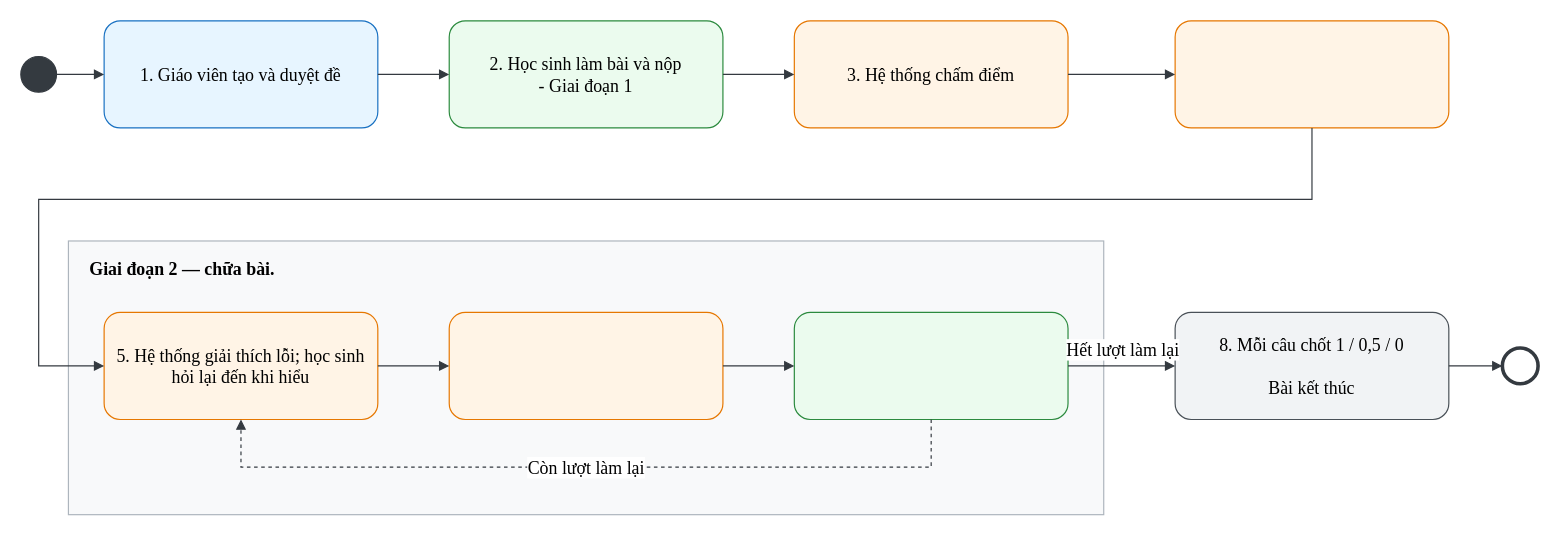
Image size: 1560x536. Some labels were removed from this diagram. Each missing label, with the centre of its shape:
"4. Hệ thống xác định lỗi sai của học sinh" goes at point (1311, 74).
"6. Hệ thống tạo câu biến thể của câu sai" goes at point (585, 365).
"7. Học sinh làm lại" goes at point (930, 365).
